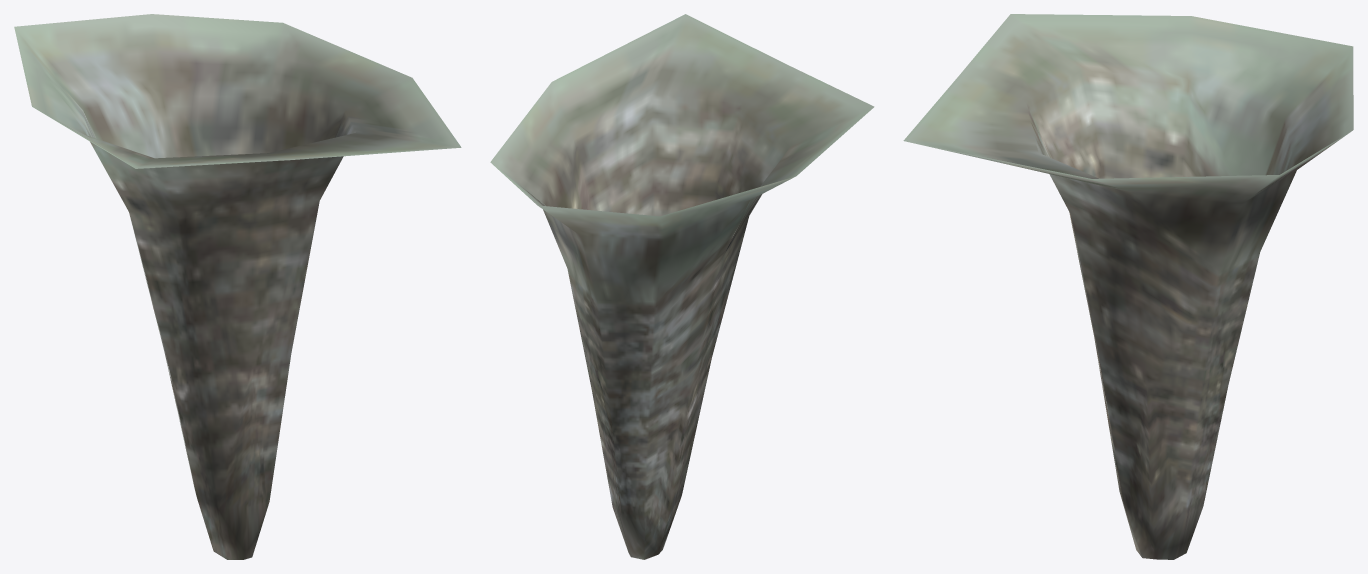
File: TROLLHOLE02_PS-MAINSTALAG96.fbx
3 renders of one model, left to right at view 1: azimuth 30°, elevation 25°; view 2: azimuth 150°, elevation 25°; view 3: azimuth 270°, elevation 25°, orthographic. The views are drawn at different scales.
Parts seen in each view (by area): view 1: TROLLHOLE02_PS-MAINSTALAG96; view 2: TROLLHOLE02_PS-MAINSTALAG96; view 3: TROLLHOLE02_PS-MAINSTALAG96.
Part boxes in pixels (x1,y1,x2,y2): TROLLHOLE02_PS-MAINSTALAG96: (14,14,461,559); TROLLHOLE02_PS-MAINSTALAG96: (490,14,874,559); TROLLHOLE02_PS-MAINSTALAG96: (903,14,1353,559).
Size of the model in its own units: 22911 by 32746 by 28855.
Materials: 1 (1 with a texture image).
